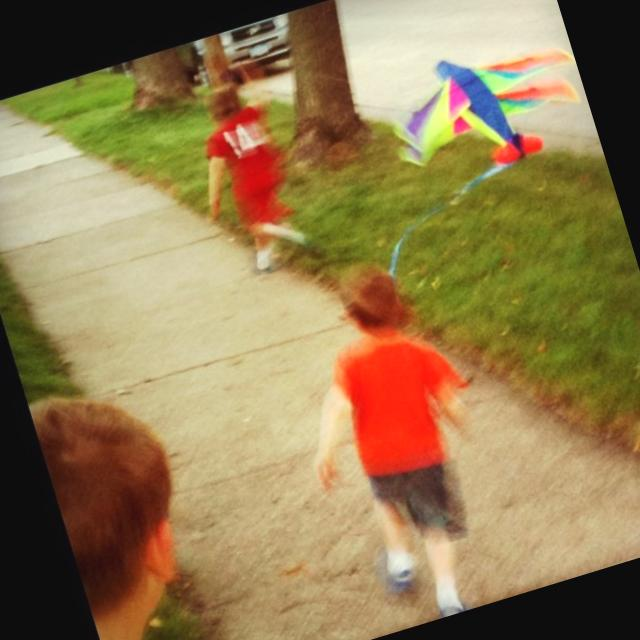Vehicle: (218, 12, 300, 72), (174, 35, 218, 87)
